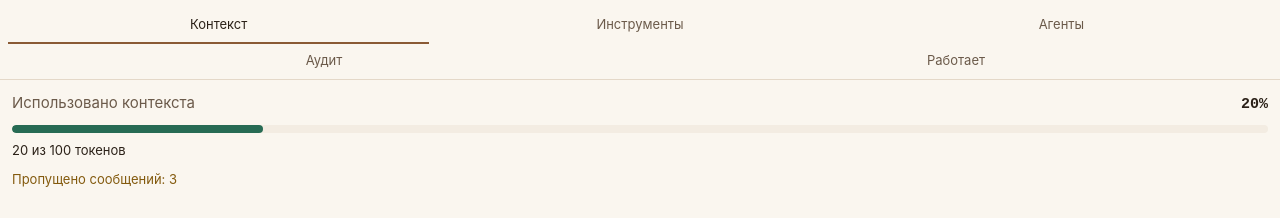
Test: RightPanel — tabs › switches the visible panel when a tab is clicked
Expected: the panel is shown, [0,80,1279,202]
Click the tab "Инструменты" at (640, 26), box [429,8,851,44]
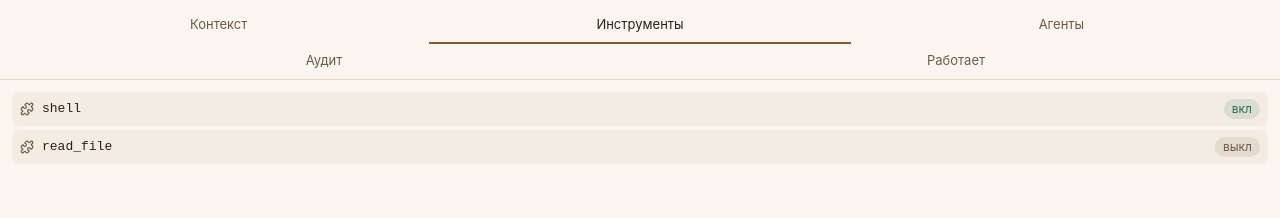
Expected: the panel is shown, [0,80,1279,176]
